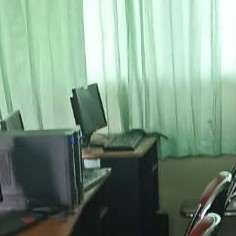monitor: (68, 78, 112, 142), (0, 108, 25, 132)
